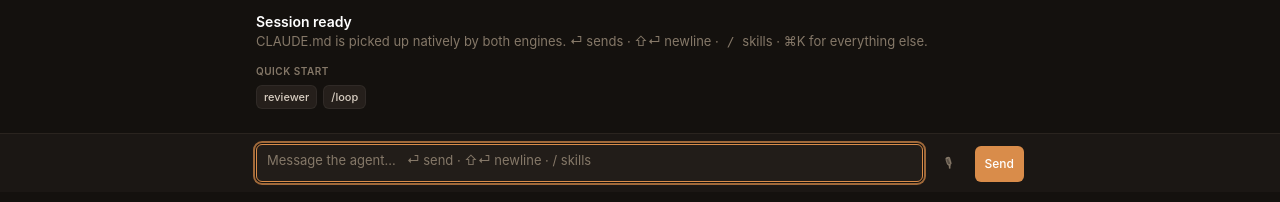
Test case: Chat odds and ends › primes the composer to use an agent from the quick starts, and says when voice has no better hint
Click the button "reviewer". click: {"x": 287, "y": 97}
box: [256,84,317,109]
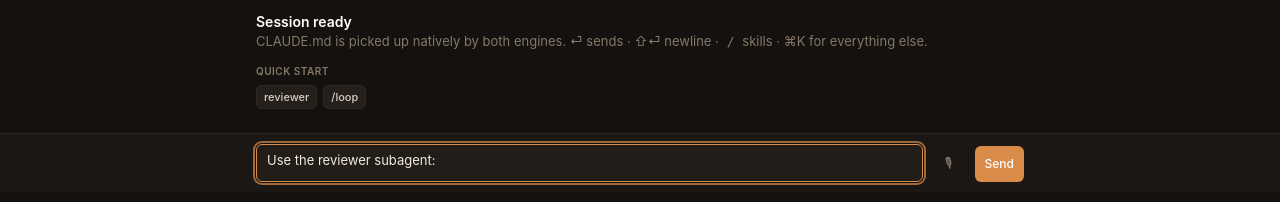
Expected: the text box named "Message" holds "Use the reviewer subagent: ", [256,144,923,182]
Click the button "/loop". click: {"x": 345, "y": 97}
box: [323,84,366,109]
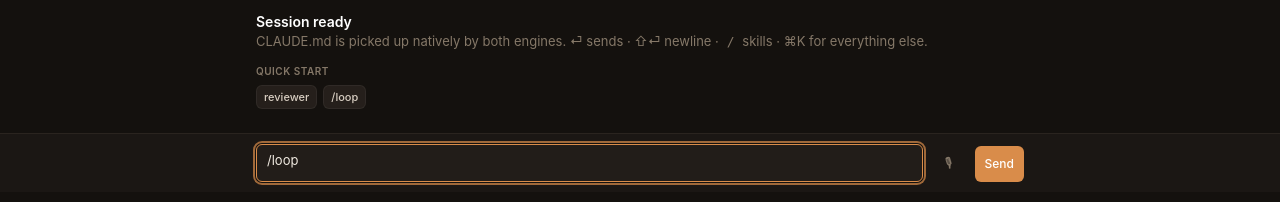
Expected: the text box named "Message" holds "/loop ", [256,144,923,182]
